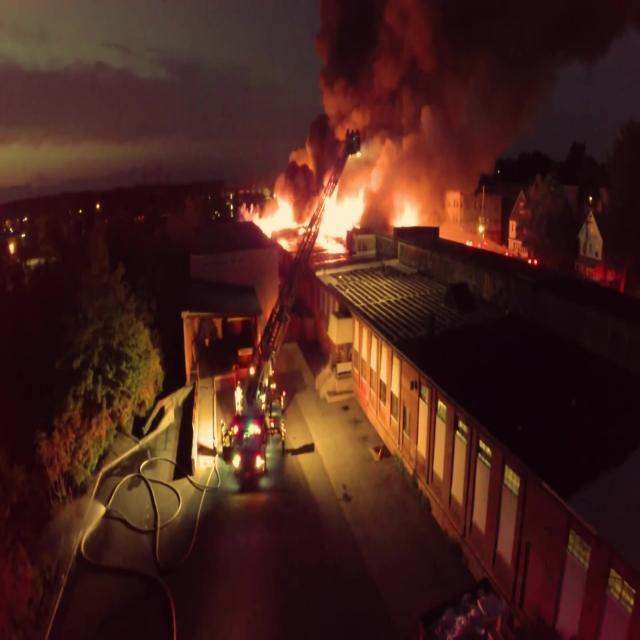Fire: (262, 186, 426, 243)
Smoke: (288, 0, 501, 179)
